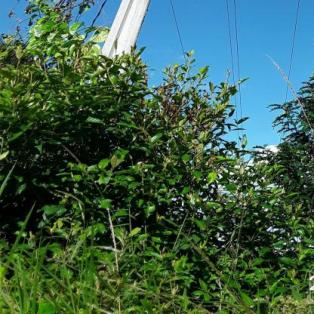Poste: (96, 0, 237, 69)
